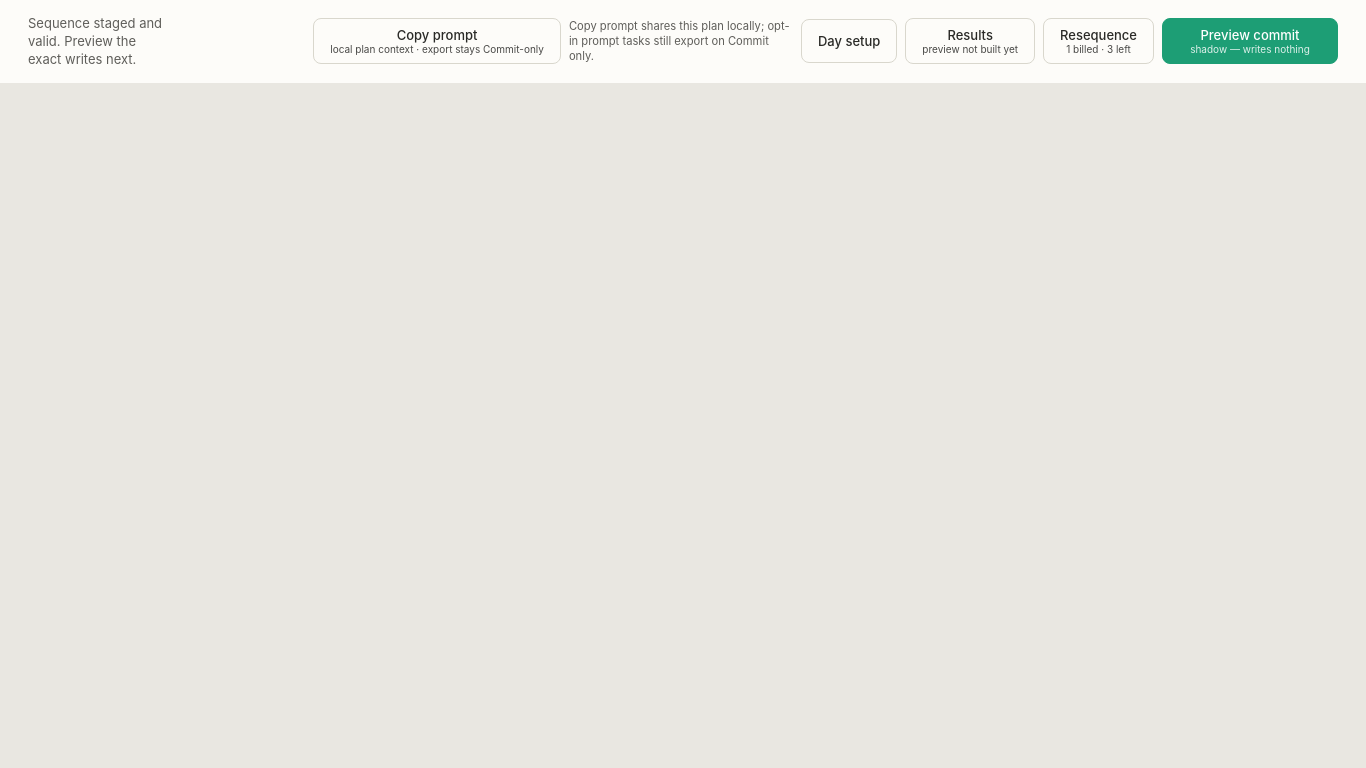
Test: FEEDBACK-08 Results/SOW reachability › review state exposes a Results entry that opens the drawer labeled Preview writes
This screenshot has width=1366, height=768.
Click the button "Results preview not built yet" at point(970, 41), box [905, 18, 1035, 64]
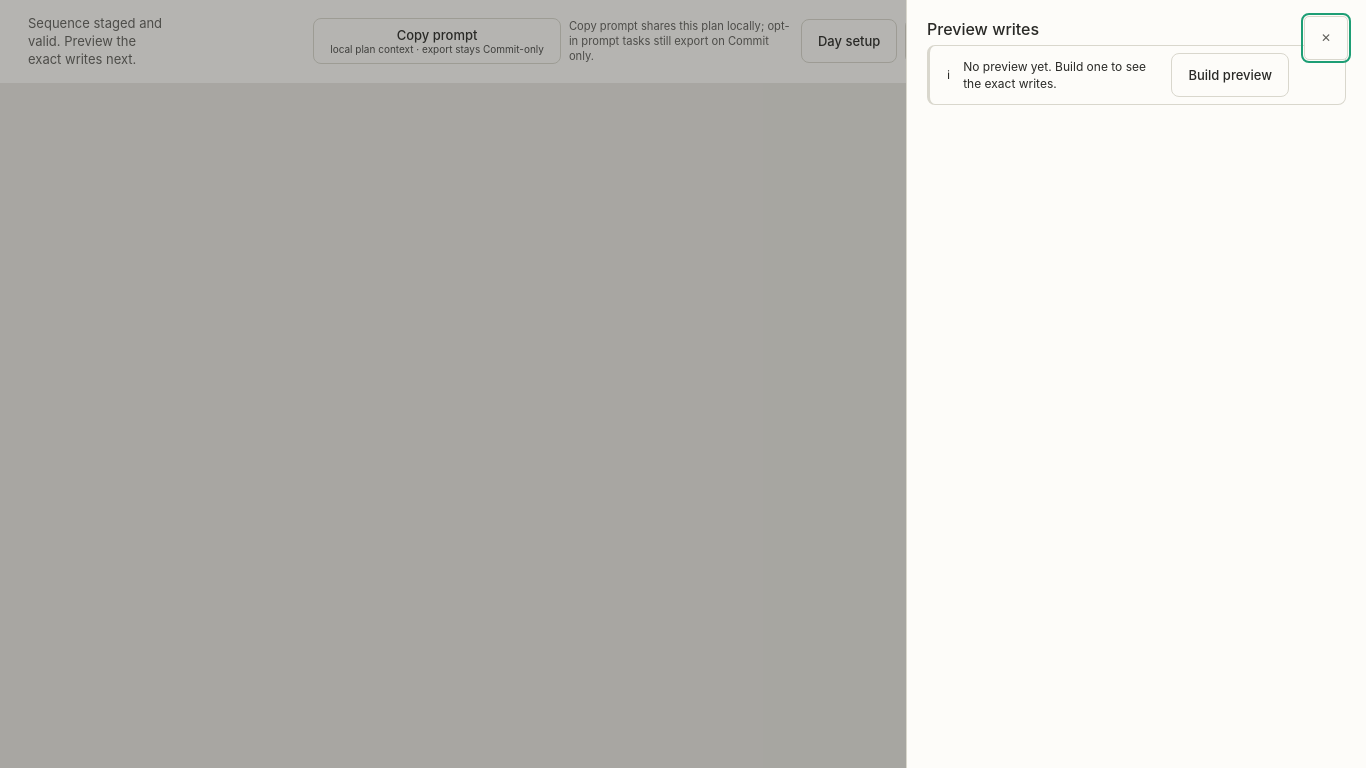
Expected: the heading "Preview writes" is shown, [927, 19, 1039, 39]
